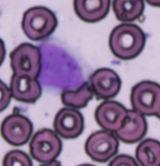M: (35, 38, 88, 92)
